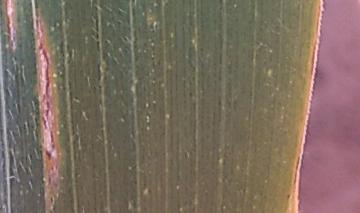tarspot: (43, 150, 52, 162), (72, 95, 80, 102)
